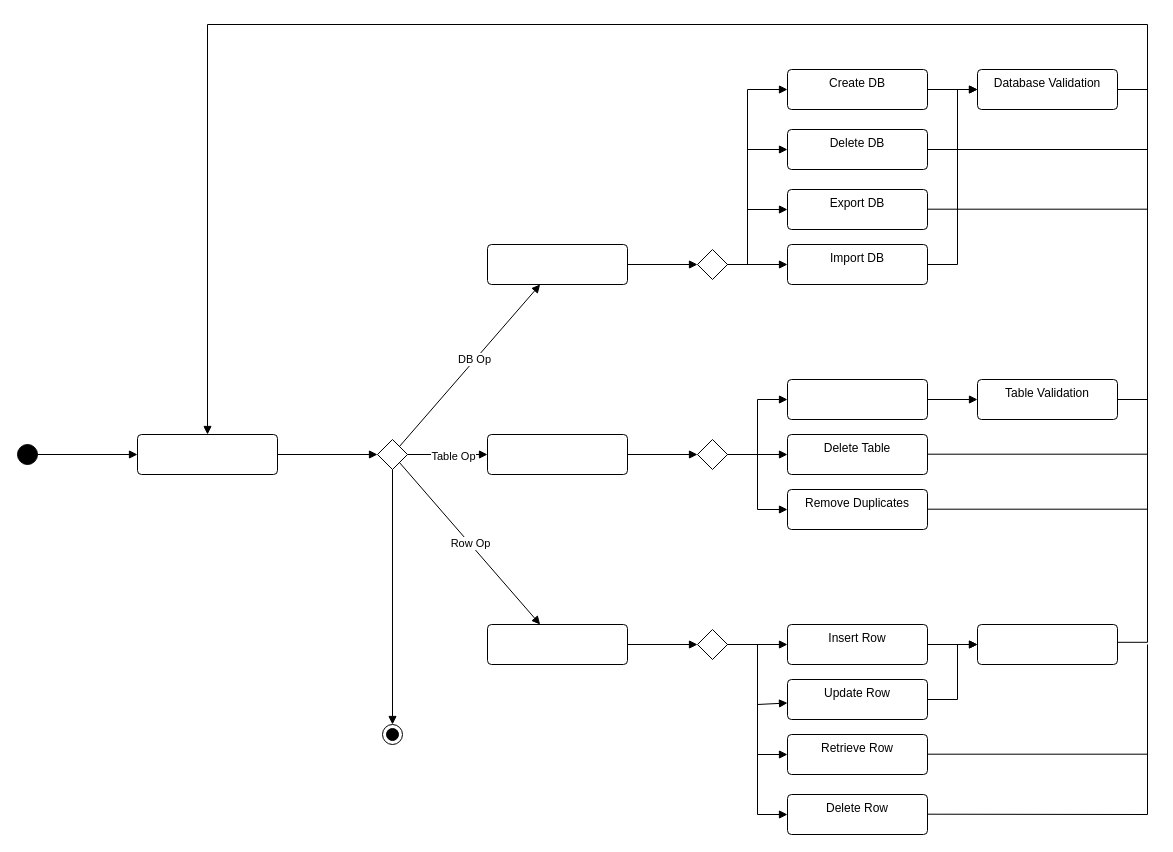
This 1173x852 diagram has some shape labels left out. Each missing label, with the centre of its shape:
"Create Table" belongs at (x=857, y=399).
"Row Validation" belongs at (x=1047, y=644).
"Select Database Operation" belongs at (x=557, y=264).
"Select Operation" belongs at (x=207, y=454).
"Select Row Operation" belongs at (x=557, y=644).
"Select Table Operation" belongs at (x=557, y=454).
